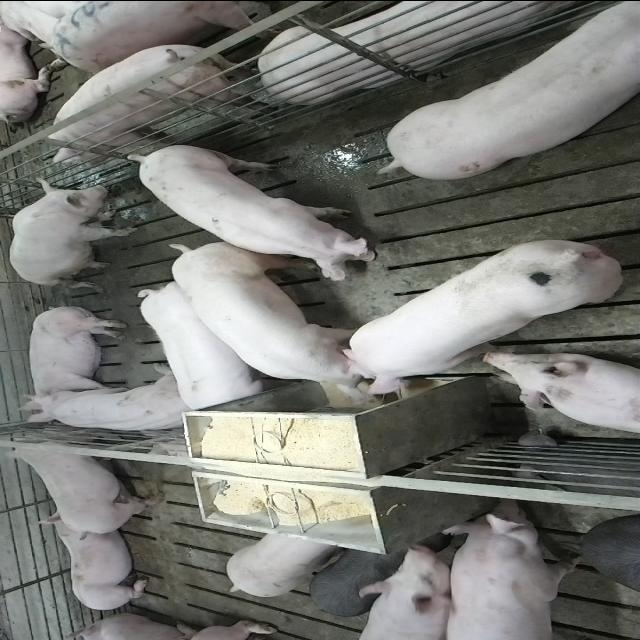Feeding: (336, 236, 624, 400), (166, 238, 385, 404)
Lateral_lying: (18, 302, 128, 414)
Sitting: (8, 177, 138, 285)
Standing: (384, 0, 640, 176), (123, 140, 380, 274), (47, 43, 275, 170), (132, 278, 280, 412), (444, 506, 594, 638), (6, 436, 168, 538), (54, 0, 276, 66), (352, 543, 457, 640), (308, 542, 412, 616), (226, 531, 342, 597), (568, 516, 638, 600)
Sternal_lying: (259, 0, 609, 100), (484, 350, 640, 434), (38, 518, 155, 612), (25, 374, 195, 434)
